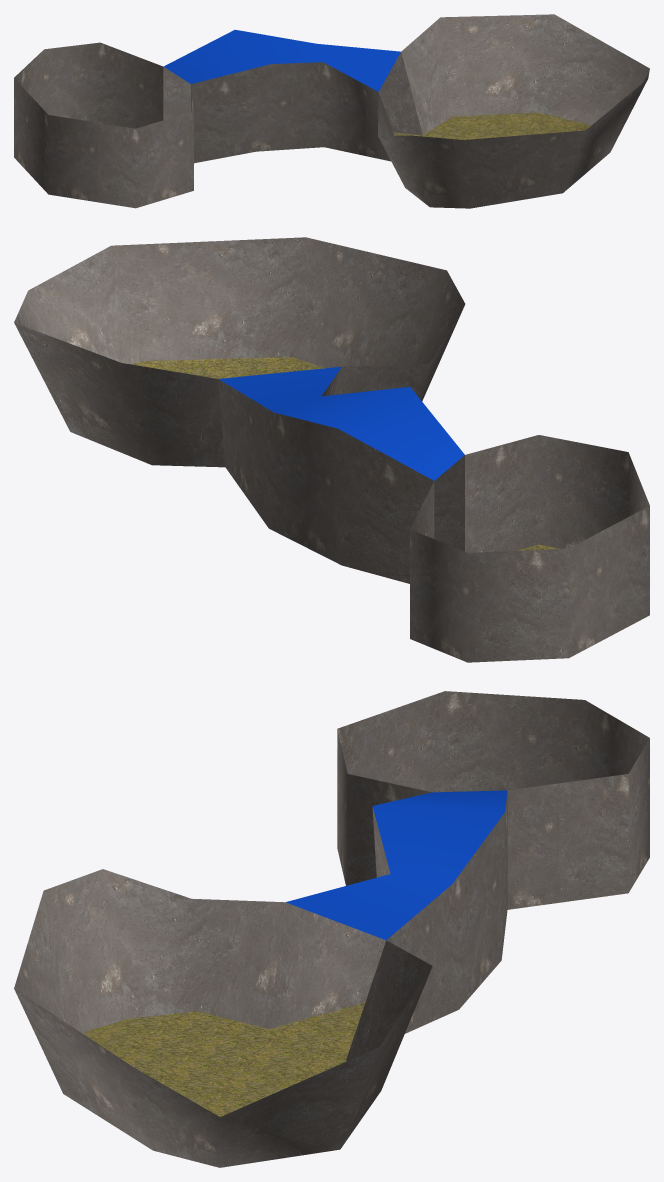
The model's file is fake-sky-cavern.obj.
The picture shows the model from 3 angles, top to bottom: view 1: azimuth 30°, elevation 25°; view 2: azimuth 150°, elevation 25°; view 3: azimuth 270°, elevation 25°; orthographic projection. The views are drawn at different scales.
Visible parts, largest first — view 1: Plane; view 2: Plane; view 3: Plane.
Boxes of the visible parts, x1,y1,x2,y2 form: Plane: [14, 14, 649, 208]; Plane: [14, 237, 649, 662]; Plane: [14, 691, 649, 1167].
Bounding box in the file's own units: 89.39 × 16.78 × 62.35.
Materials: 3 (2 with a texture image).
